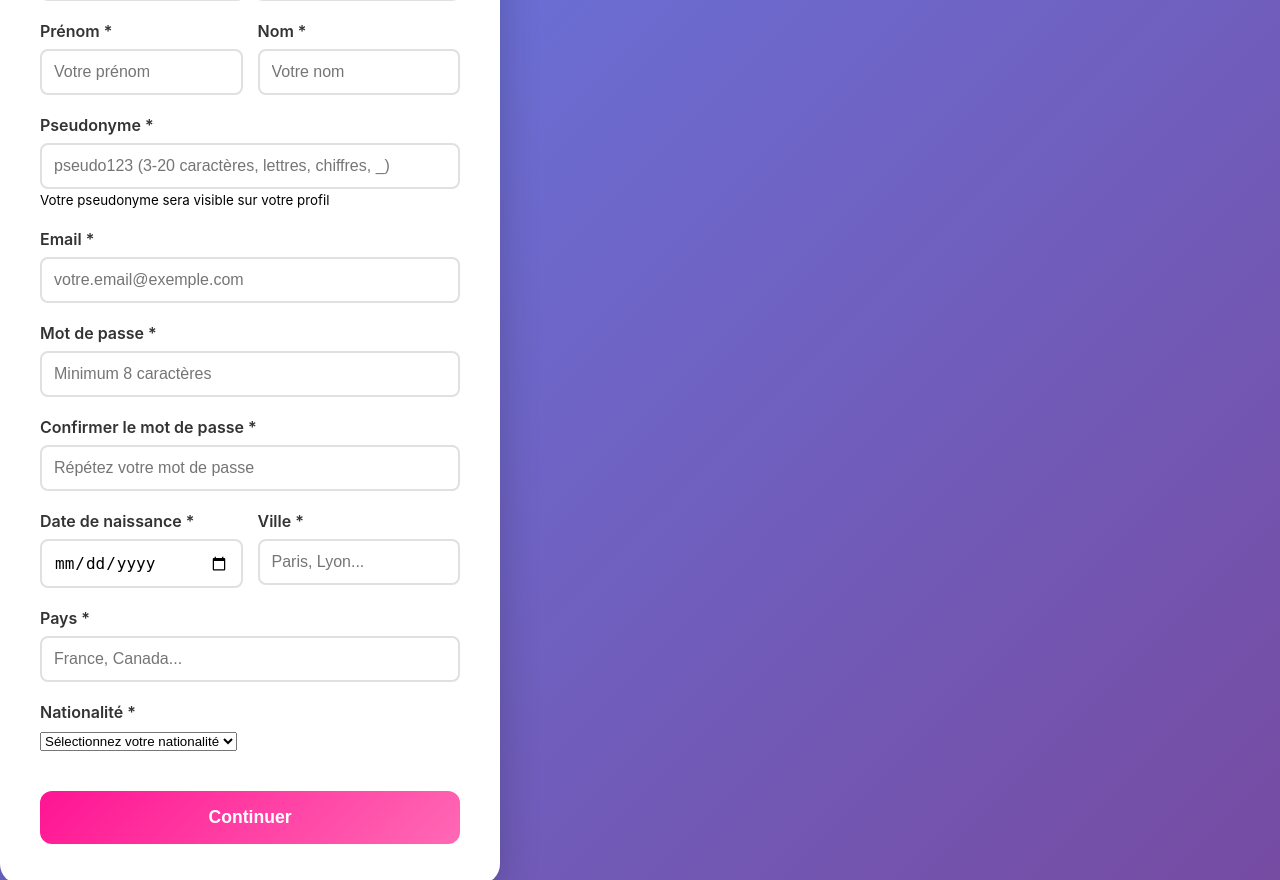
Test: SignupForm - Pseudonym Validation › should show error for empty pseudonym
(page scrolled)
Click the button "Continuer".
click(250, 818)  # box [40,791,460,844]
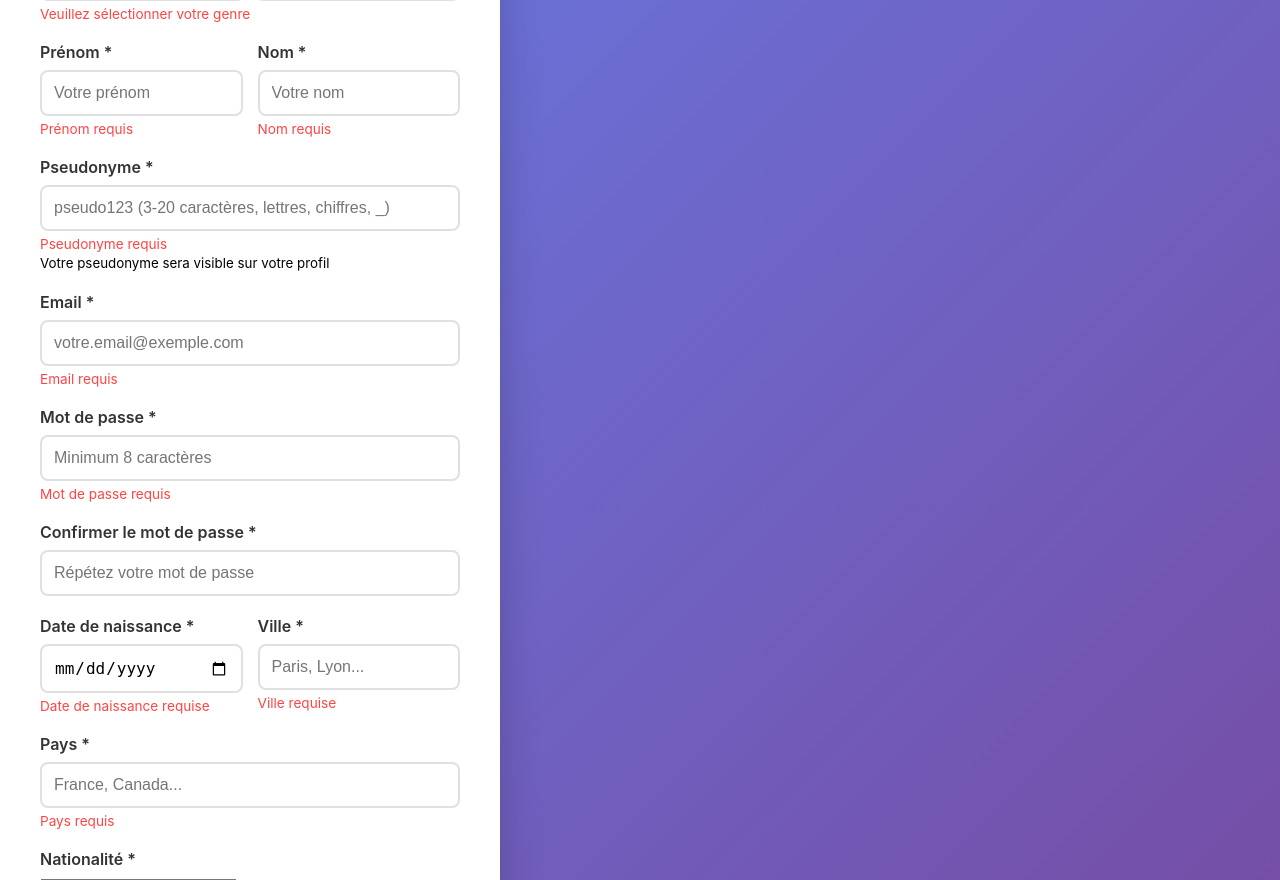
Expected: the text "Pseudonyme requis" is shown, [40,236,167,252]
